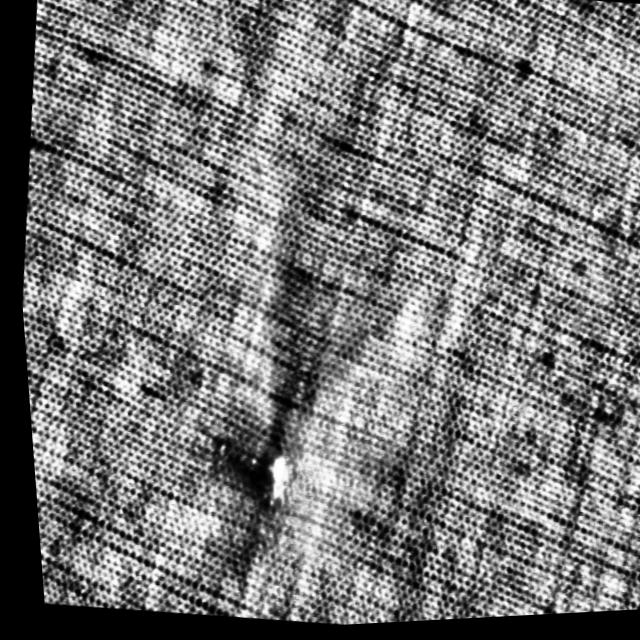Hole: (252, 453, 287, 517)
